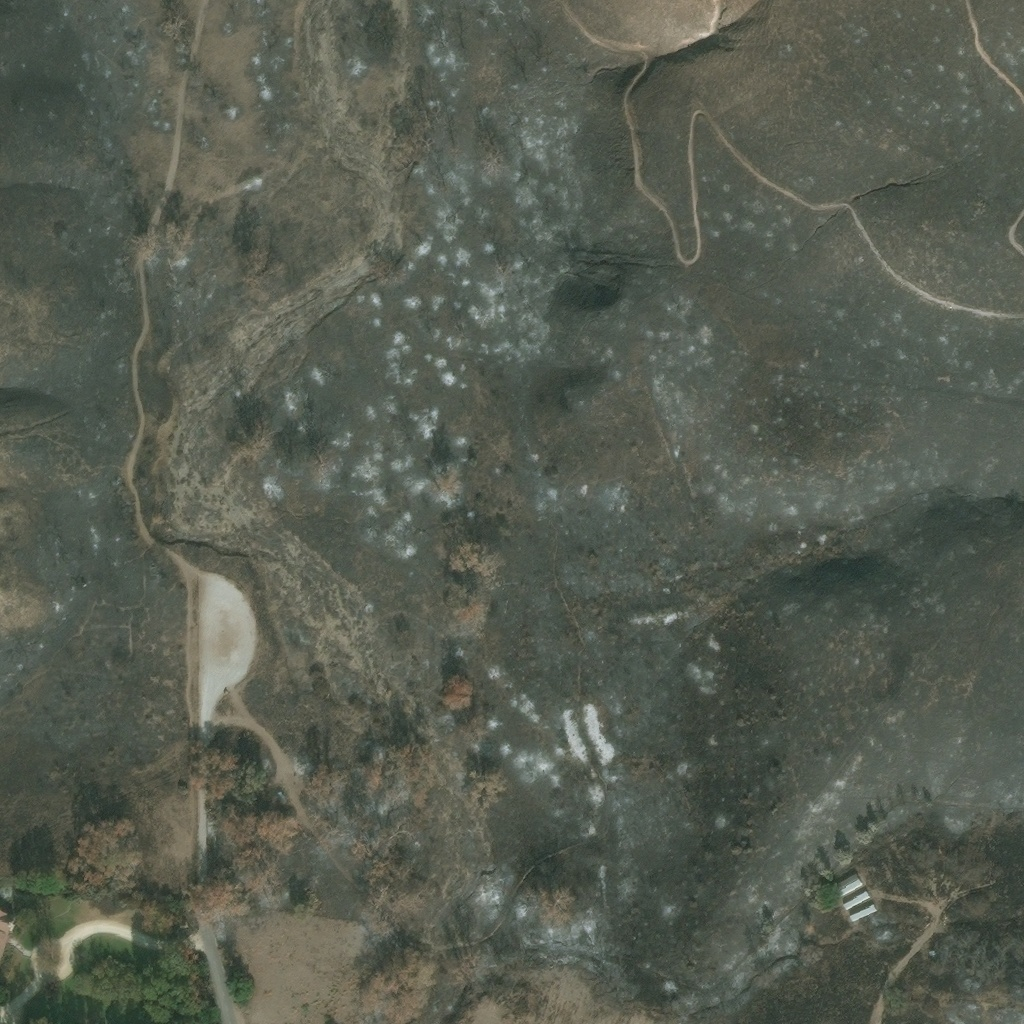0 no-damage: (834, 872, 862, 894), (841, 888, 869, 909), (849, 902, 875, 920)
1 minor-damage: (928, 948, 935, 955)
